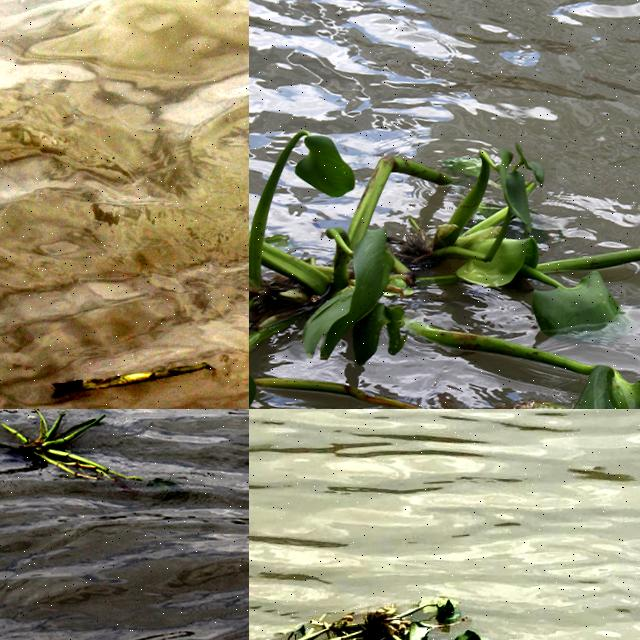water-hyacinth: (250, 98, 640, 410), (250, 590, 494, 640)
